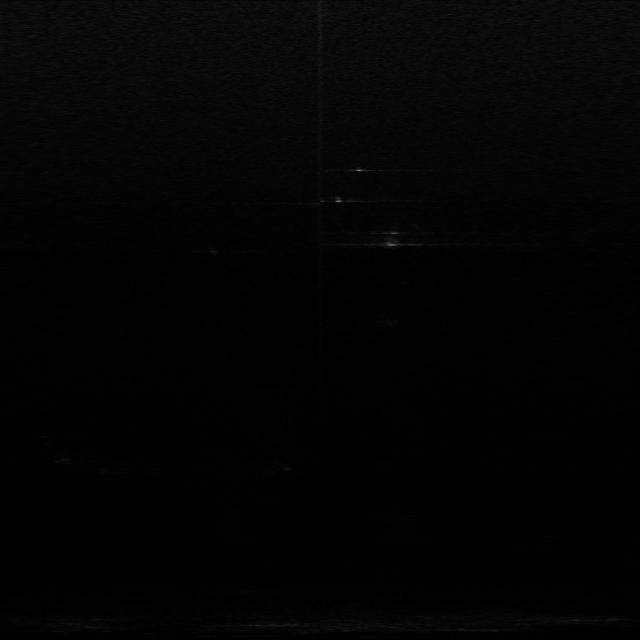rov: (378, 228, 404, 252)
